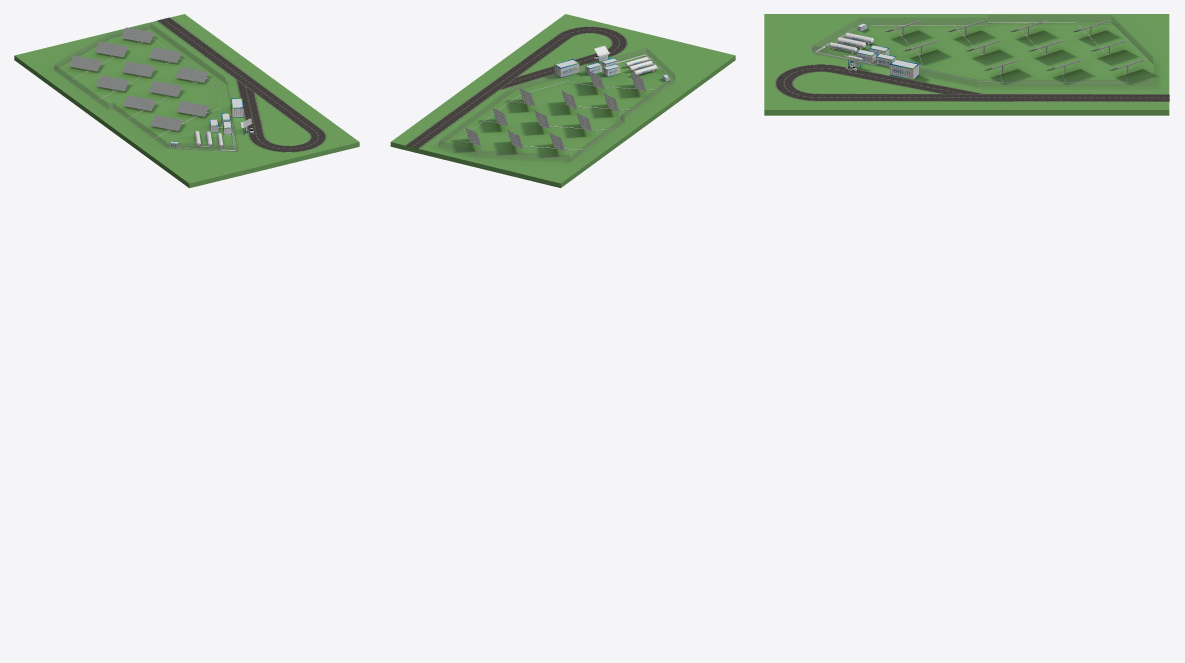
File: Planta.glb
3 views of the same model, side by side, from view 1: azimuth 30°, elevation 25°; view 2: azimuth 150°, elevation 25°; view 3: azimuth 270°, elevation 25° (orthographic). The views are drawn at different scales.
Parts seen in each view (by area): view 1: Suelo, Carretera, Valla; view 2: Suelo, Carretera, Valla, Tuberias Hevos; view 3: Suelo, Carretera, Valla, Tuberias Hevos.
Boxes of the visible parts, left/top/right/bottom form: Suelo: left=14, top=14, right=359, bottom=188; Carretera: left=157, top=17, right=325, bottom=152; Valla: left=54, top=23, right=236, bottom=151; Suelo: left=390, top=14, right=735, bottom=187; Carretera: left=405, top=26, right=627, bottom=148; Valla: left=439, top=48, right=674, bottom=161; Tuberias Hevos: left=457, top=79, right=673, bottom=150; Suelo: left=764, top=14, right=1169, bottom=115; Carretera: left=775, top=64, right=1169, bottom=101; Valla: left=812, top=15, right=1152, bottom=86; Tuberias Hevos: left=867, top=22, right=1128, bottom=82.
Size of the model in its own units: 0.3887 by 1.04 by 0.6916.
Materials: 23 (10 with a texture image).
